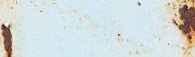Corrosion: (167, 1, 195, 57), (1, 23, 13, 57)
